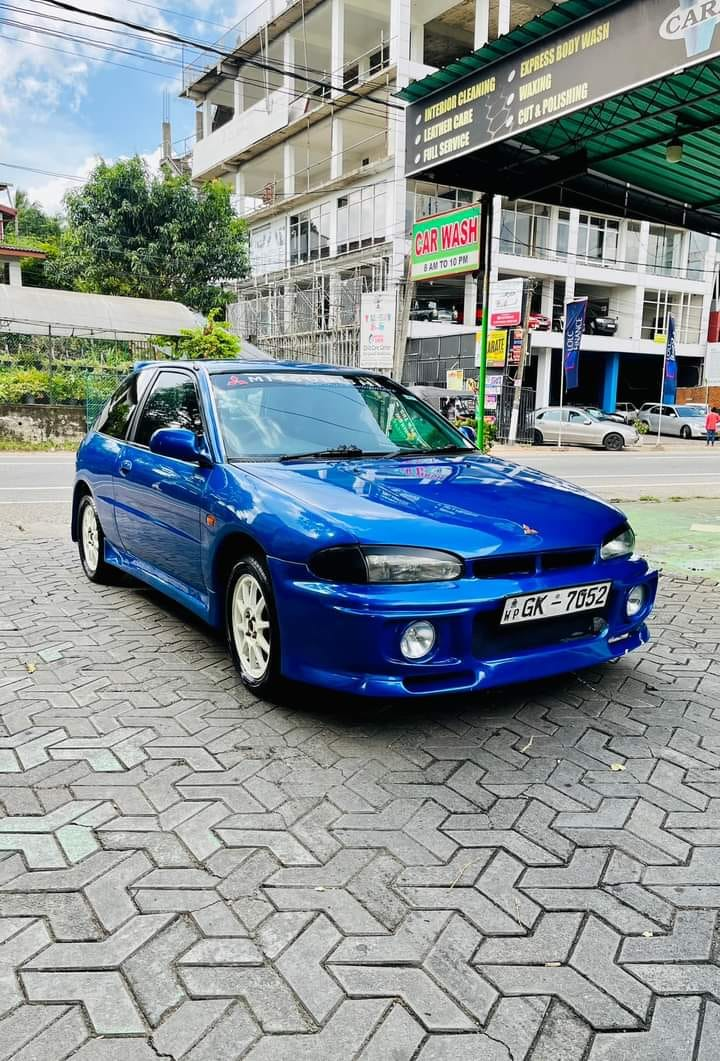number_plate: (503, 578, 609, 622)
